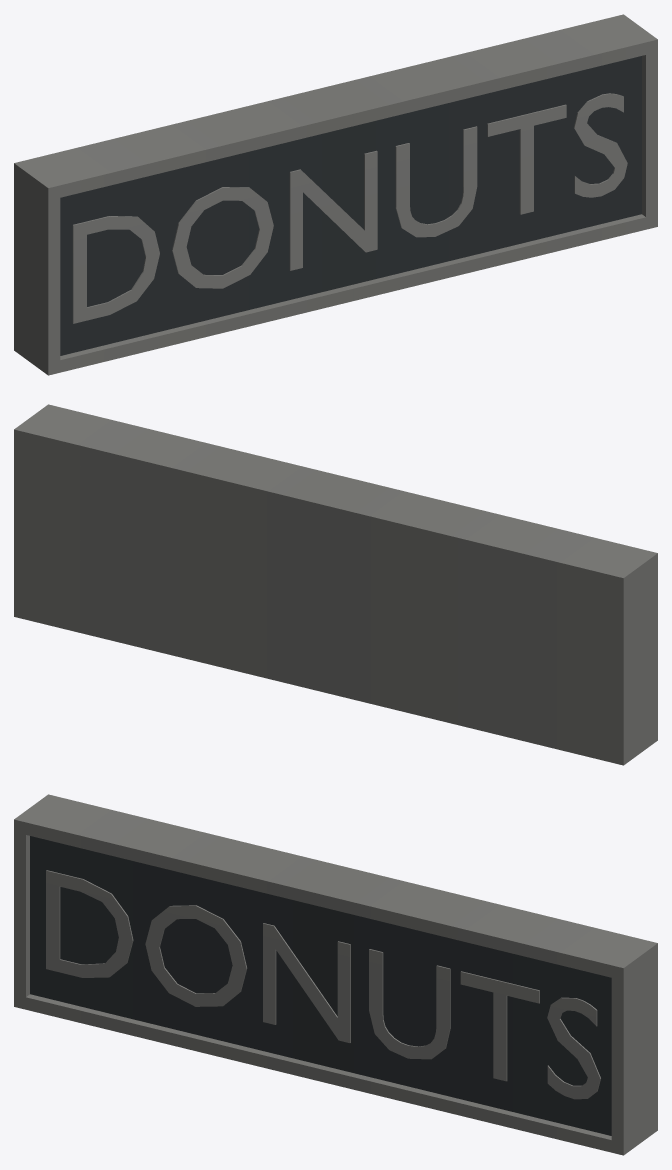
Rendered from Banner_23.fbx.
The picture shows the model from 3 angles, top to bottom: view 1: azimuth 30°, elevation 25°; view 2: azimuth 150°, elevation 25°; view 3: azimuth 330°, elevation 25°; orthographic projection.
Visible parts, largest first — view 1: Banner_23; view 2: Banner_23; view 3: Banner_23.
Part boxes in pixels (left/top/right/bottom): Banner_23: left=14, top=14, right=657, bottom=375; Banner_23: left=14, top=404, right=657, bottom=765; Banner_23: left=14, top=794, right=657, bottom=1155.
Size of the model in its own units: 2.87 by 0.8434 by 0.2801.
